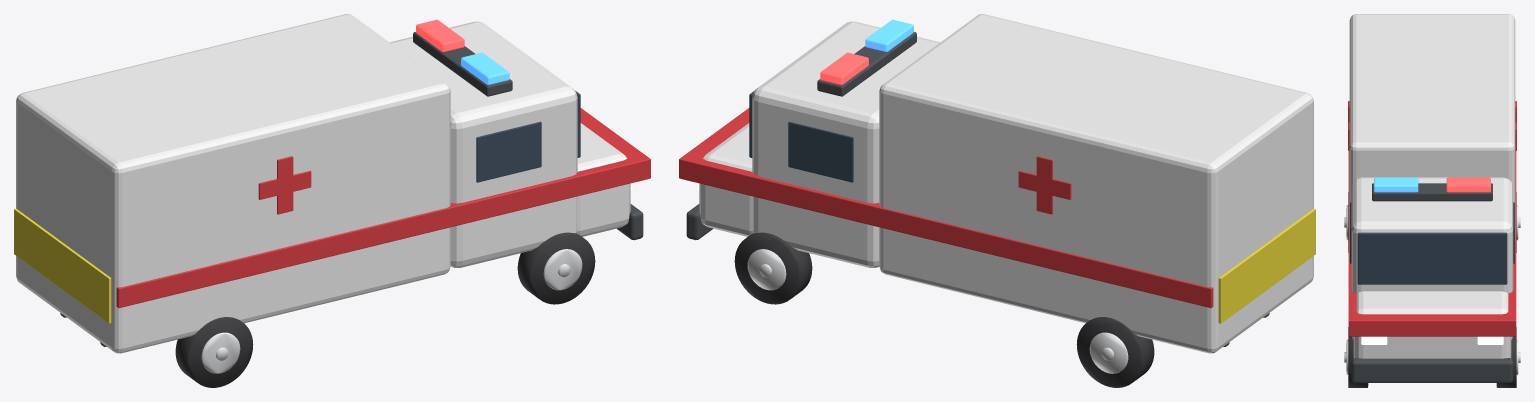
Rendered from ambulance-map.glb.
3 renders of one model, left to right at view 1: azimuth 30°, elevation 25°; view 2: azimuth 150°, elevation 25°; view 3: azimuth 270°, elevation 25°, orthographic. The views are drawn at different scales.
Visible parts, largest first — view 1: body__patient_box, body__cab.001, body__red_stripe, body__rear_chevrons, tires__wheel_FR.001, tires__wheel_RR, body__hood, body__side_window_-1.001, body__cross_R, body__lightbar, body__beacon_0, body__beacon_1 (+1 smaller); view 2: body__patient_box, body__cab.001, body__red_stripe, body__rear_chevrons, tires__wheel_FL.001, tires__wheel_RL, body__hood, body__side_window_1.001, body__cross_L, body__lightbar, body__beacon_0, body__beacon_1 (+1 smaller); view 3: body__patient_box, body__cab.001, body__windshield.001, body__hood, body__red_stripe, body__bumper.001, body__lightbar, body__beacon_0, body__beacon_1, tires__wheel_FR.001, tires__wheel_FL.001, body__headlight_1.001 (+1 smaller).
Part boxes in pixels (left/top/right/bottom): body__patient_box: left=16, top=14, right=450, bottom=353; body__cab.001: left=390, top=21, right=577, bottom=267; body__red_stripe: left=116, top=108, right=650, bottom=307; body__rear_chevrons: left=14, top=208, right=111, bottom=323; tires__wheel_FR.001: left=517, top=232, right=595, bottom=304; tires__wheel_RR: left=175, top=317, right=253, bottom=387; body__hood: left=576, top=123, right=630, bottom=236; body__side_window_-1.001: left=476, top=121, right=541, bottom=182; body__cross_R: left=258, top=156, right=311, bottom=214; body__lightbar: left=413, top=32, right=512, bottom=96; body__beacon_0: left=416, top=19, right=464, bottom=51; body__beacon_1: left=461, top=52, right=509, bottom=84; body__patient_box: left=879, top=14, right=1313, bottom=353; body__cab.001: left=752, top=21, right=939, bottom=267; body__red_stripe: left=679, top=108, right=1213, bottom=307; body__rear_chevrons: left=1218, top=208, right=1315, bottom=323; tires__wheel_FL.001: left=734, top=232, right=812, bottom=304; tires__wheel_RL: left=1076, top=317, right=1154, bottom=387; body__hood: left=699, top=123, right=753, bottom=236; body__side_window_1.001: left=788, top=121, right=853, bottom=182; body__cross_L: left=1018, top=156, right=1071, bottom=214; body__lightbar: left=817, top=32, right=916, bottom=96; body__beacon_0: left=820, top=52, right=868, bottom=84; body__beacon_1: left=865, top=19, right=913, bottom=51; body__patient_box: left=1349, top=14, right=1515, bottom=240; body__cab.001: left=1351, top=177, right=1513, bottom=339; body__windshield.001: left=1357, top=232, right=1507, bottom=284; body__hood: left=1353, top=291, right=1511, bottom=358; body__red_stripe: left=1348, top=151, right=1516, bottom=336; body__bumper.001: left=1351, top=358, right=1513, bottom=382; body__lightbar: left=1372, top=183, right=1492, bottom=201; body__beacon_0: left=1446, top=177, right=1490, bottom=192; body__beacon_1: left=1374, top=177, right=1418, bottom=192; tires__wheel_FR.001: left=1344, top=327, right=1368, bottom=387; tires__wheel_FL.001: left=1496, top=327, right=1520, bottom=387; body__headlight_1.001: left=1477, top=336, right=1503, bottom=344.
Bounding box in the file's own units: 6.21 × 2.7 × 2.19.
